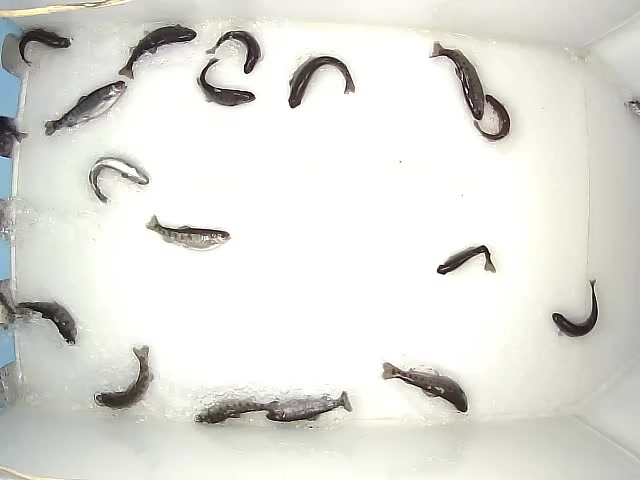fish: (44, 80, 128, 137), (428, 40, 486, 121), (117, 25, 197, 82), (382, 361, 469, 413), (93, 343, 155, 412), (288, 56, 356, 109), (13, 298, 80, 348), (144, 214, 232, 251), (196, 58, 257, 108), (89, 156, 150, 205), (551, 278, 599, 339), (266, 390, 353, 422), (205, 30, 262, 74), (193, 397, 280, 425), (436, 243, 497, 279), (18, 28, 72, 68), (472, 94, 511, 141)
